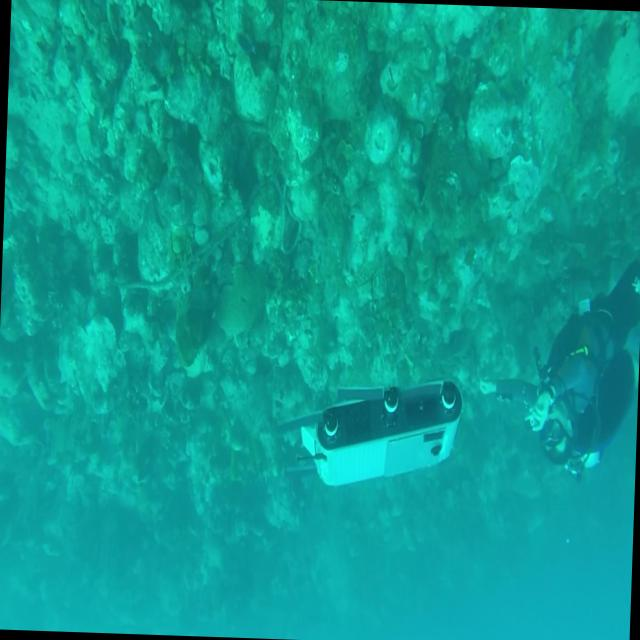human: (475, 243, 640, 478)
